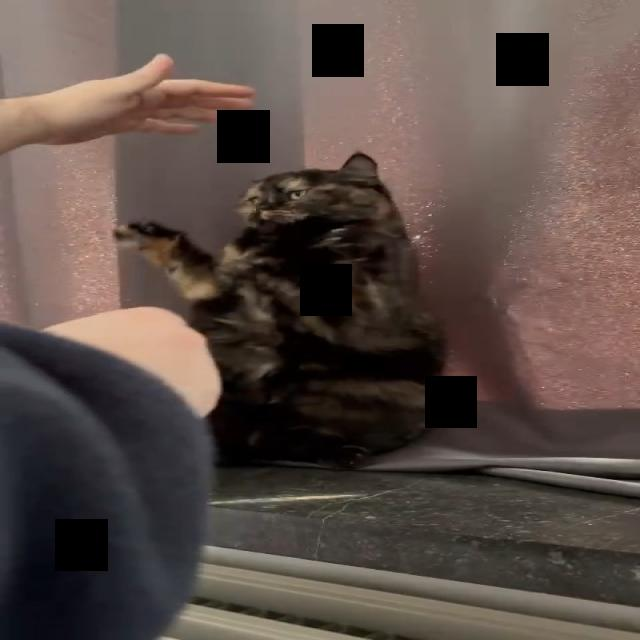authorized: (111, 150, 448, 470)
